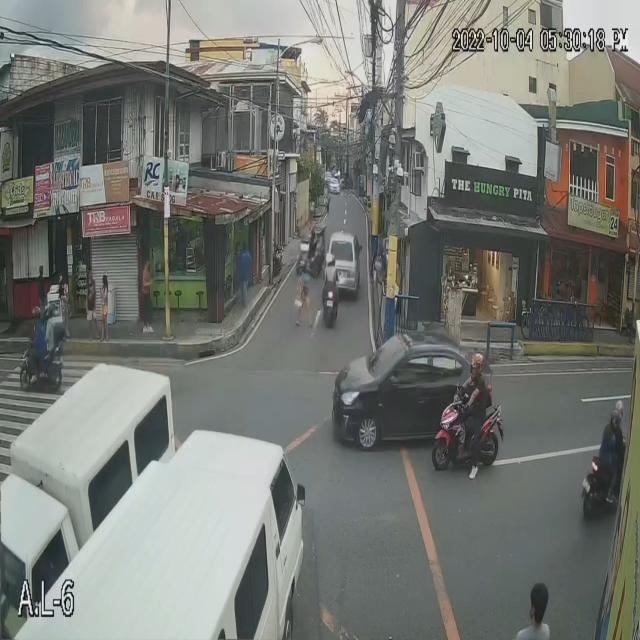full: (469, 351, 484, 381)
